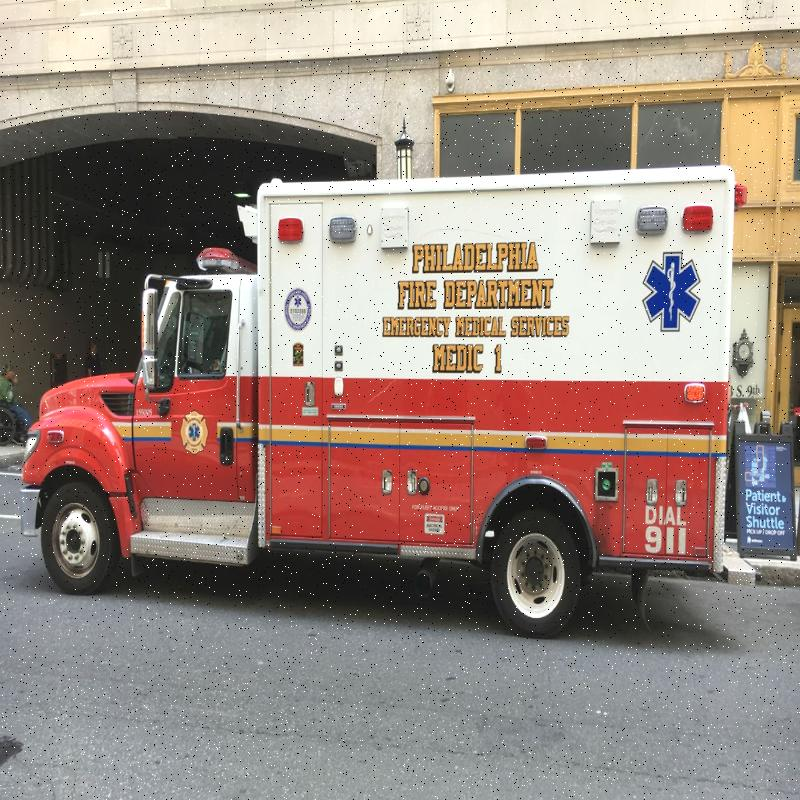ambulance: (62, 179, 741, 643)
